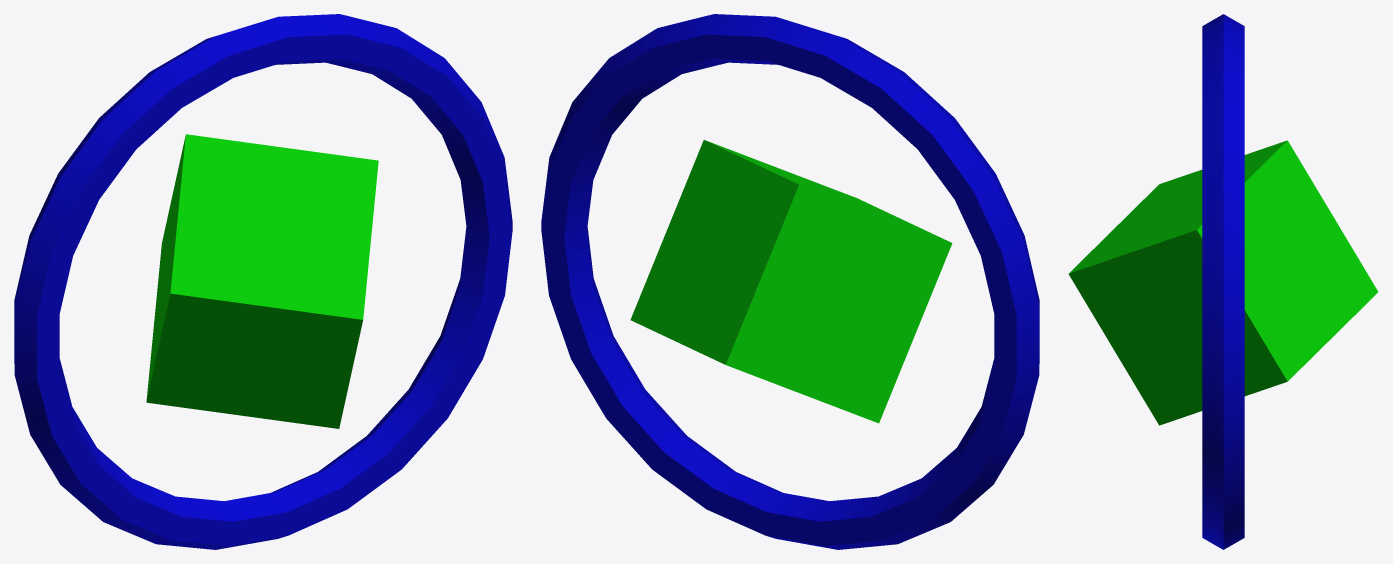
The model's file is PowerUp_ShieldBooster.fbx.
3 renders of one model, left to right at view 1: azimuth 30°, elevation 25°; view 2: azimuth 150°, elevation 25°; view 3: azimuth 270°, elevation 25°, orthographic. The views are drawn at different scales.
Visible parts, largest first — view 1: pTorus1, pCube1; view 2: pTorus1, pCube1; view 3: pCube1, pTorus1.
Boxes of the visible parts, x1,y1,x2,y2 form: pTorus1: (14, 14, 512, 549); pCube1: (146, 134, 378, 428); pTorus1: (541, 14, 1039, 549); pCube1: (630, 140, 952, 423); pCube1: (1068, 140, 1378, 425); pTorus1: (1202, 14, 1244, 549).
Size of the model in its own units: 3.83 by 3.84 by 2.22.
